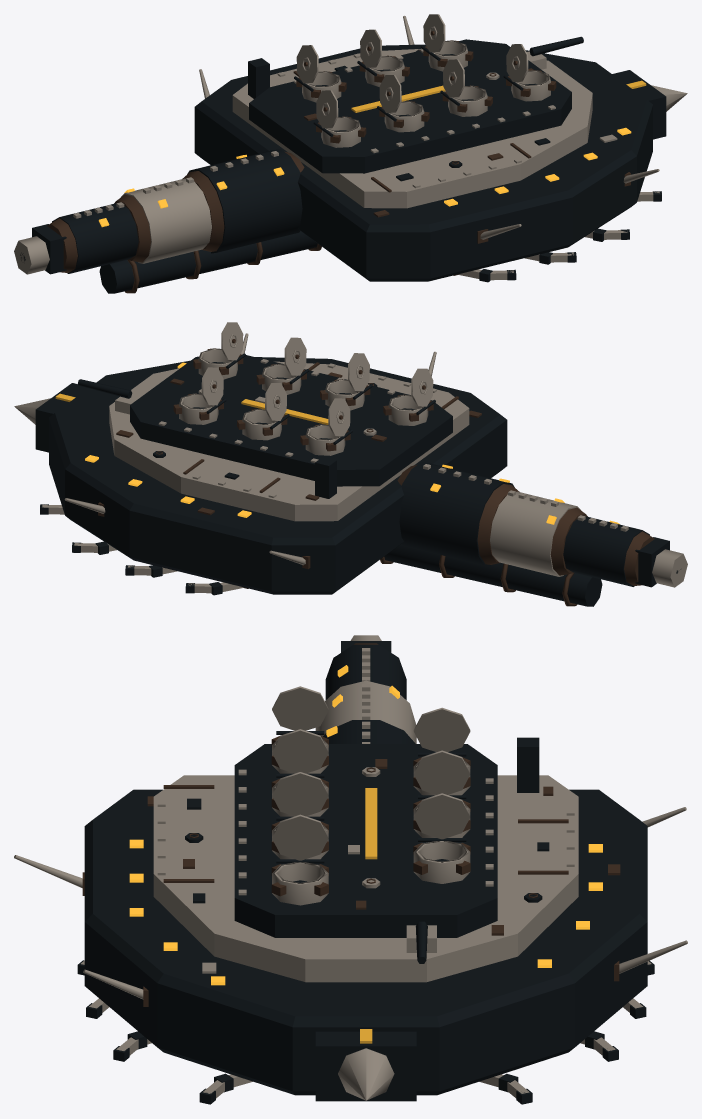
Rendered from thurible-bathyarch.glb.
3 views of the same model, one above another, from view 1: azimuth 30°, elevation 25°; view 2: azimuth 150°, elevation 25°; view 3: azimuth 270°, elevation 25° (orthographic). The views are drawn at different scales.
Parts seen in each view (by area): view 1: hull_slab, armour_tier_2, armour_tier_1, can_0, can_1, keel, can_2, can_cap_0a, bow_block, prop_shroud, can_cap_1a, stern_block (+18 smaller); view 2: hull_slab, armour_tier_2, armour_tier_1, can_0, can_1, keel, can_2, can_cap_0a, bow_block, prop_shroud, can_cap_1a, stern_block (+18 smaller); view 3: hull_slab, armour_tier_1, armour_tier_2, bow_block, can_1, can_2, bow_ram, cell_p0_lid, cell_s0_lid, cell_s1_lid, cell_p2_lid, cell_s2_lid (+7 smaller).
Boxes of the visible parts, x1,y1,x2,y2 form: hull_slab: (194,44,652,281); armour_tier_2: (249,39,571,173); armour_tier_1: (232,48,592,208); can_0: (187,149,302,253); can_1: (121,178,211,263); keel: (99,231,317,293); can_2: (52,202,138,273); can_cap_0a: (182,171,224,251); bow_block: (612,70,666,139); prop_shroud: (14,236,49,274); can_cap_1a: (114,194,151,262); stern_block: (32,224,66,274); hull_slab: (49,357,507,594); armour_tier_2: (130,355,452,486); armour_tier_1: (109,361,469,521); can_0: (399,462,514,566); can_1: (490,491,580,576); keel: (384,544,602,606); can_2: (563,515,649,586); can_cap_0a: (477,484,519,564); bow_block: (35,383,88,452); prop_shroud: (652,549,687,587); can_cap_1a: (550,507,587,575); stern_block: (635,537,669,587); hull_slab: (84,789,647,1095); armour_tier_1: (153,775,578,982); armour_tier_2: (234,744,497,937); bow_block: (315,1031,416,1101); can_1: (315,680,416,743); can_2: (325,644,406,699); bow_ram: (338,1048,394,1100); cell_p0_lid: (413,793,470,839); cell_s0_lid: (272,814,328,860); cell_s1_lid: (272,772,328,816); cell_p2_lid: (413,707,470,752); cell_s2_lid: (272,729,328,773).
Size of the model in its own units: 105 by 27.19 by 66.58.
